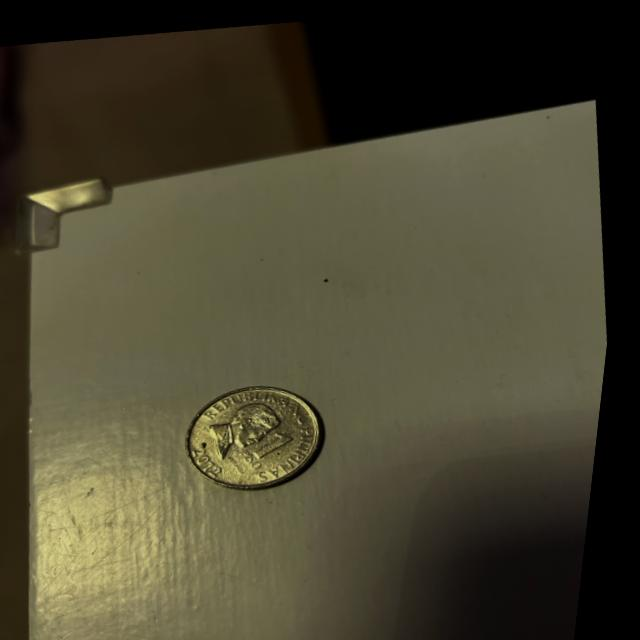1_Old_Front: (244, 424, 309, 474)
